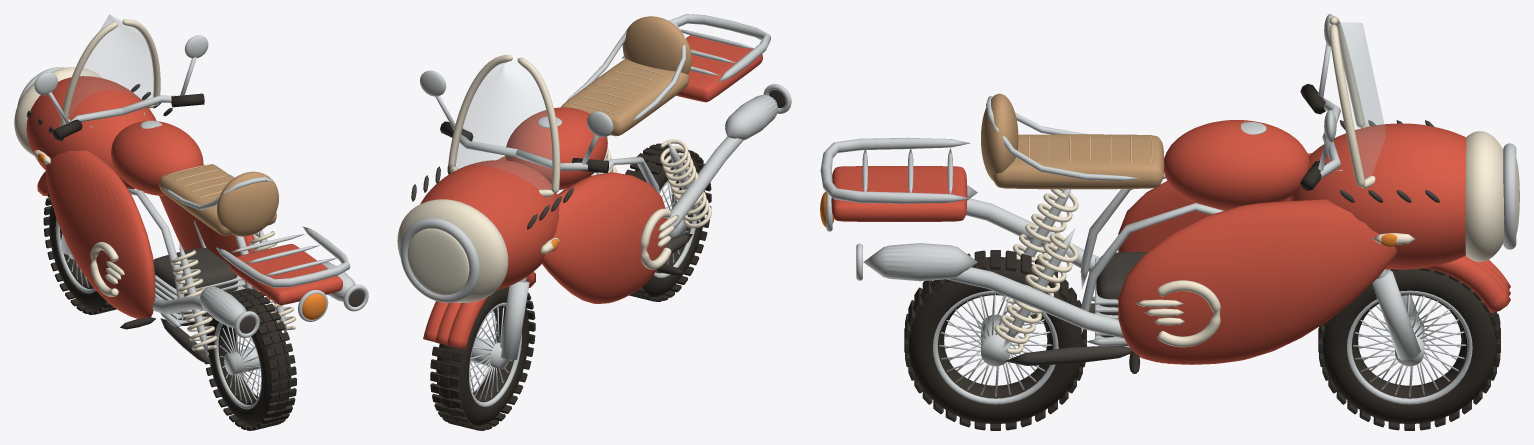
Rendered from courier_bike.glb.
The picture shows the model from 3 angles, left to right: view 1: azimuth 30°, elevation 25°; view 2: azimuth 150°, elevation 25°; view 3: azimuth 270°, elevation 25°; orthographic projection. The views are drawn at different scales.
Visible parts, largest first — view 1: Body_Geometry, RearWheel_Geometry, ForkPivot_Geometry, FrontWheel_Geometry, ShockGeometryL, ShockGeometryR, SwingarmGeometry, LowerForkGeometry; view 2: Body_Geometry, FrontWheel_Geometry, RearWheel_Geometry, LowerForkGeometry, ForkPivot_Geometry, ShockGeometryL; view 3: Body_Geometry, RearWheel_Geometry, FrontWheel_Geometry, LowerForkGeometry, ShockGeometryR, ForkPivot_Geometry, ShockGeometryL, SwingarmGeometry.
Part boxes in pixels (bbox=[...]): Body_Geometry: bbox=[14, 14, 368, 337]; RearWheel_Geometry: bbox=[202, 288, 296, 430]; ForkPivot_Geometry: bbox=[34, 35, 208, 139]; FrontWheel_Geometry: bbox=[43, 193, 116, 314]; ShockGeometryL: bbox=[170, 241, 217, 357]; ShockGeometryR: bbox=[249, 230, 296, 332]; SwingarmGeometry: bbox=[160, 318, 212, 364]; LowerForkGeometry: bbox=[37, 171, 136, 254]; Body_Geometry: bbox=[397, 14, 791, 303]; FrontWheel_Geometry: bbox=[430, 286, 535, 430]; RearWheel_Geometry: bbox=[625, 143, 711, 301]; LowerForkGeometry: bbox=[423, 271, 535, 359]; ForkPivot_Geometry: bbox=[420, 70, 613, 172]; ShockGeometryL: bbox=[660, 139, 711, 228]; Body_Geometry: bbox=[820, 16, 1519, 373]; RearWheel_Geometry: bbox=[904, 250, 1086, 430]; FrontWheel_Geometry: bbox=[1318, 268, 1500, 430]; LowerForkGeometry: bbox=[1372, 256, 1510, 360]; ShockGeometryR: bbox=[994, 227, 1078, 354]; ForkPivot_Geometry: bbox=[1300, 14, 1340, 190]; ShockGeometryL: bbox=[1000, 189, 1078, 303]; SwingarmGeometry: bbox=[1005, 303, 1132, 365].
Size of the model in its own units: 0.924 by 1.56 by 2.47.
